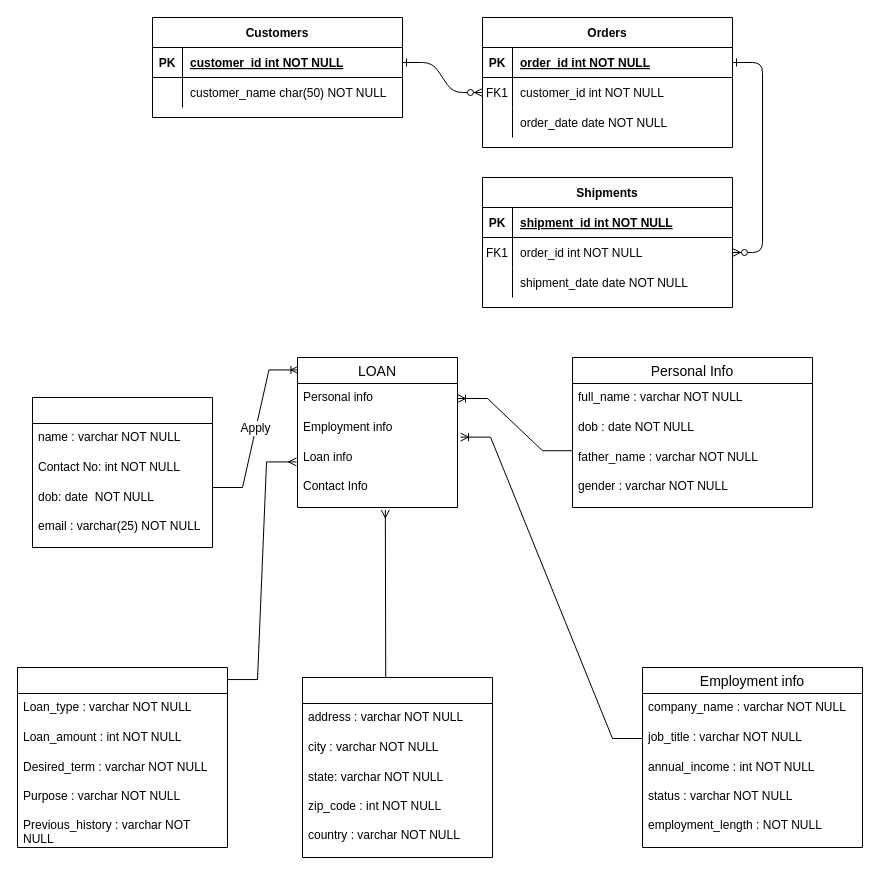
Image size: 880x878. Some labels were removed from this diagram. The box of each missing label's shape, as (x1, y1, x2, y2) in pixels:
Contact Info: (302, 676, 492, 858)
Customer: (32, 396, 212, 548)
Loan Info: (16, 666, 228, 848)
